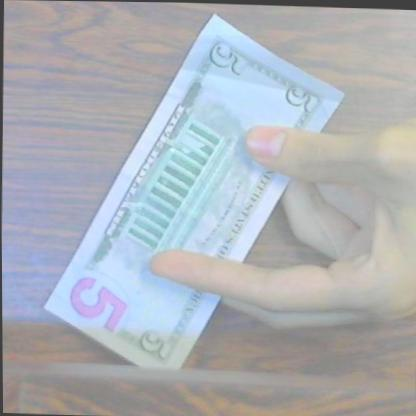five-back: (36, 0, 354, 377)
